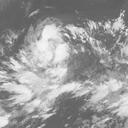cyclone: (12, 22, 78, 104)
